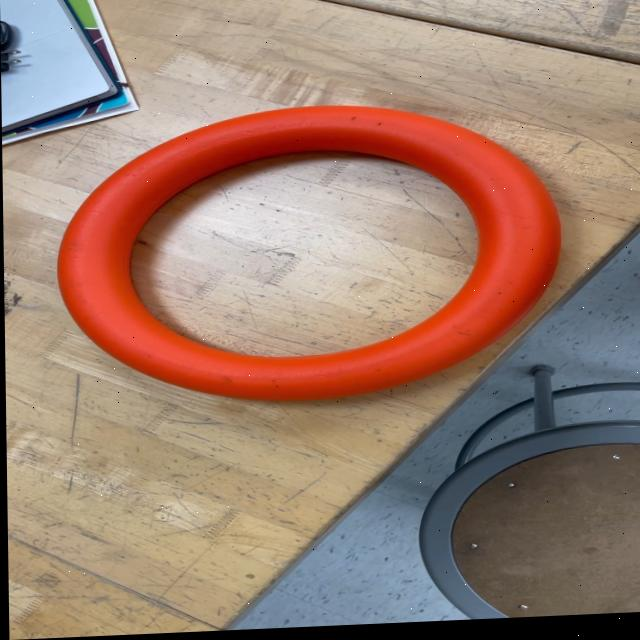note: (29, 101, 564, 404)
